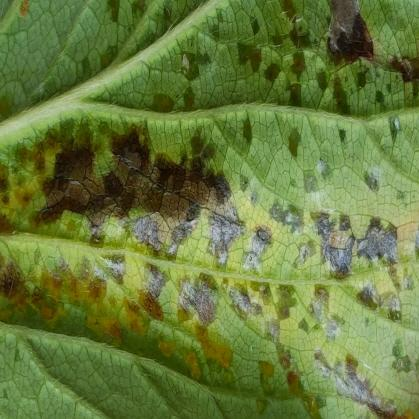Angular Leafspot: (0, 0, 418, 418)
